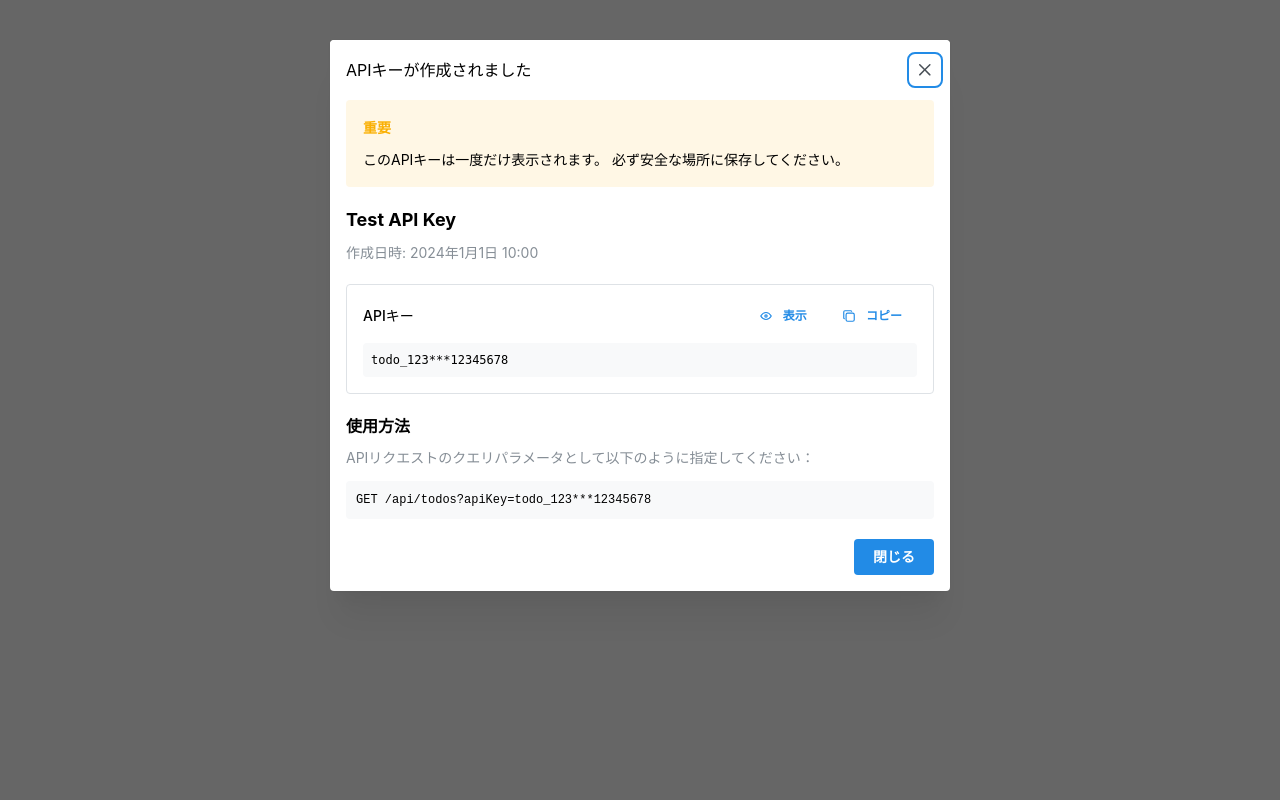
Scenario: ApiKeyDisplayModal › API key visibility toggle › should hide API key when visibility is toggled off
Click the button "表示".
click(785, 316)  # box top-left (748, 301), bottom-right (822, 331)
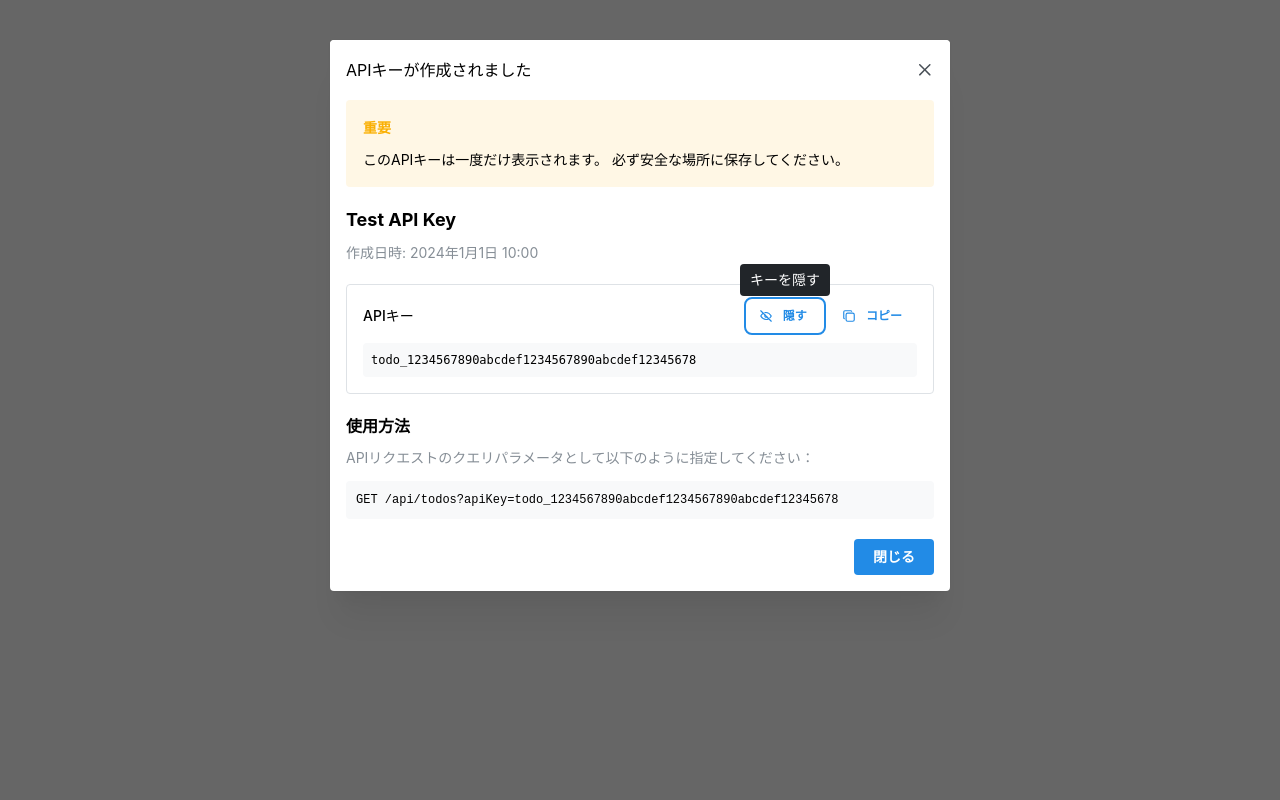
Click the button "隠す".
click(785, 316)  # box top-left (748, 301), bottom-right (822, 331)
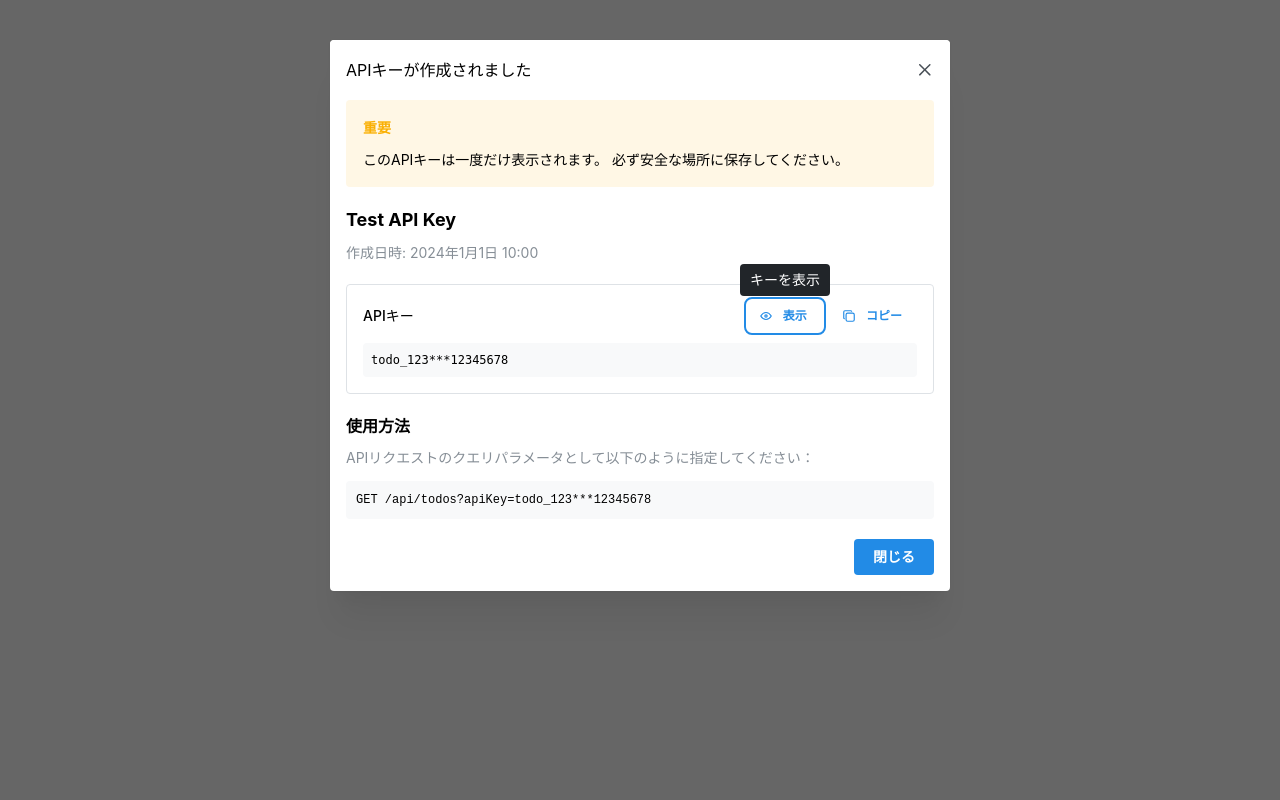
Result: the text "todo_123***12345678" is shown at top-left (363, 343), bottom-right (917, 377)
Result: the button "表示" is shown at top-left (783, 308), bottom-right (807, 323)
